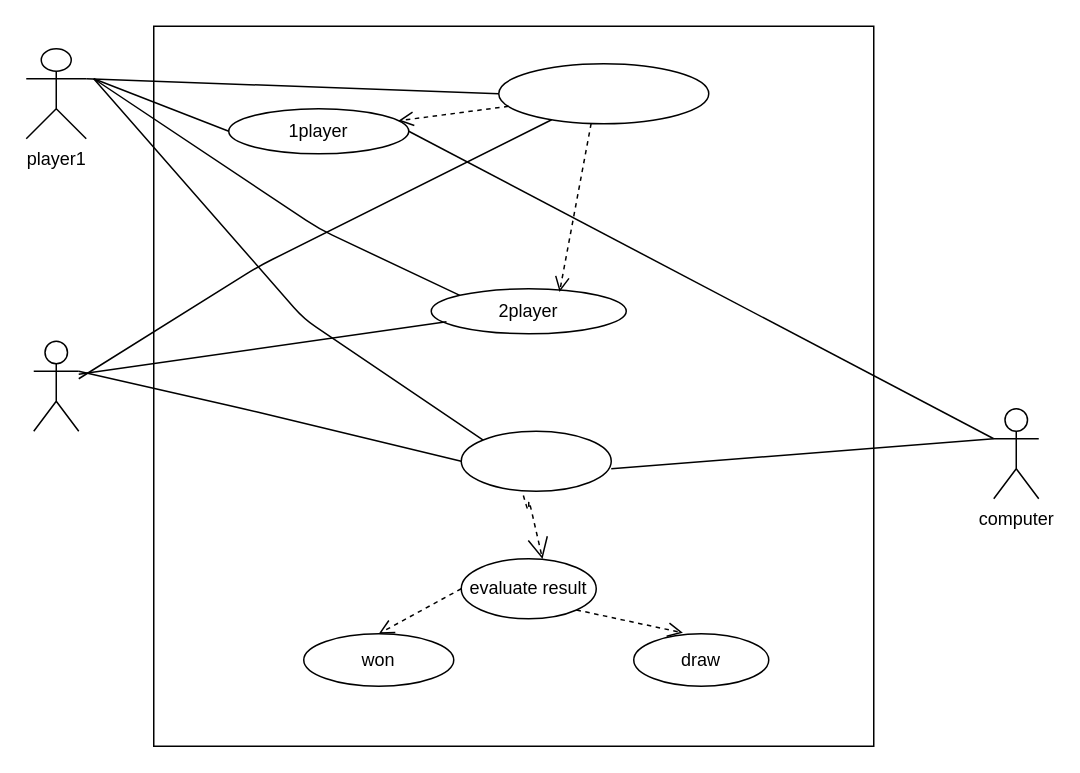
The diagram is 1080 pixels wide and 773 high, and some of its shapes have lost their labels. The box of each missing label's shape, as (x1, y1, x2, y2) in pixels:
choose mode of play: (497, 62, 709, 124)
make move: (460, 430, 611, 491)
player2: (32, 340, 79, 431)
